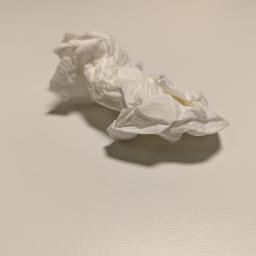Paper: (48, 31, 234, 145)
